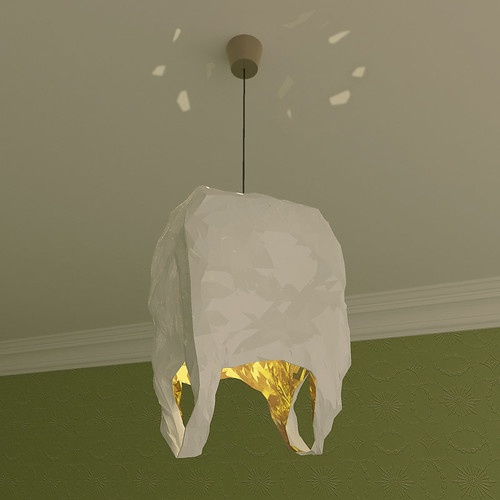plastic bag: (147, 185, 352, 459)
